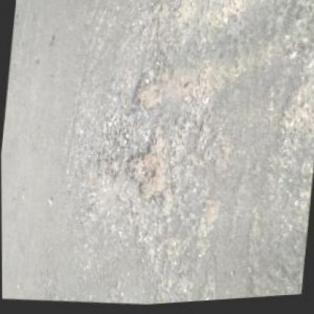Hueco: (120, 135, 168, 207), (132, 81, 163, 115)
